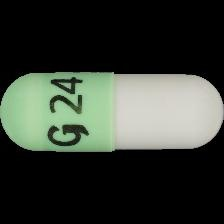68462-130: (0, 0, 224, 224)
